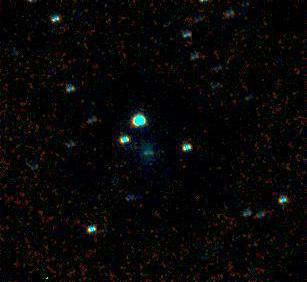star: (28, 265, 58, 282)
